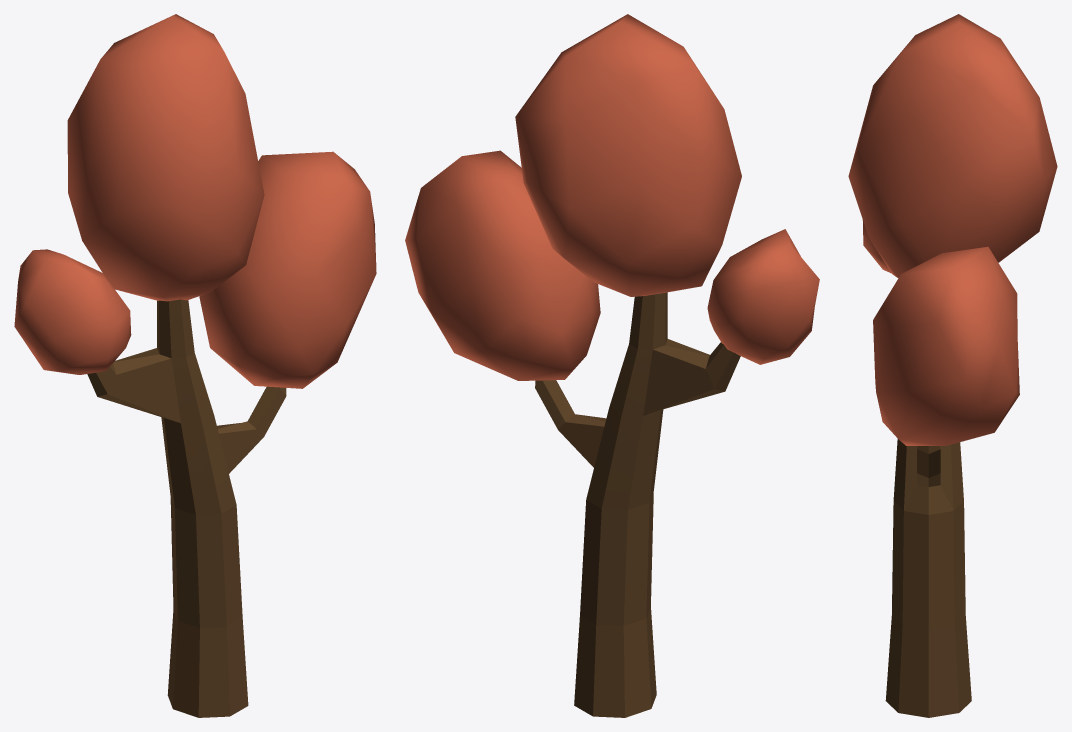
Rendered from tree_03.fbx.
3 views of the same model, side by side, from view 1: azimuth 30°, elevation 25°; view 2: azimuth 150°, elevation 25°; view 3: azimuth 270°, elevation 25° (orthographic). The views are drawn at different scales.
Visible parts, largest first — view 1: pPlatonic3, tree_03, pPlatonic7, pPlatonic4; view 2: pPlatonic3, tree_03, pPlatonic7, pPlatonic4; view 3: pPlatonic3, pPlatonic7, tree_03, pPlatonic4.
Boxes of the visible parts, x1=… form: pPlatonic3: x1=67, y1=14, x2=264, y2=301; tree_03: x1=87, y1=299, x2=286, y2=717; pPlatonic7: x1=199, y1=151, x2=376, y2=388; pPlatonic4: x1=14, y1=249, x2=131, y2=374; pPlatonic3: x1=515, y1=14, x2=741, y2=296; tree_03: x1=535, y1=292, x2=740, y2=717; pPlatonic7: x1=405, y1=150, x2=600, y2=380; pPlatonic4: x1=707, y1=229, x2=819, y2=364; pPlatonic3: x1=848, y1=14, x2=1057, y2=278; pPlatonic7: x1=873, y1=246, x2=1019, y2=445; tree_03: x1=885, y1=439, x2=971, y2=717; pPlatonic4: x1=862, y1=220, x2=891, y2=273.
Bounding box in the file's own units: 3.56 × 6.11 × 1.73.
